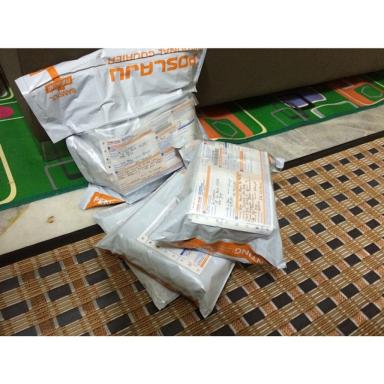plasticbag: (11, 52, 228, 210)
